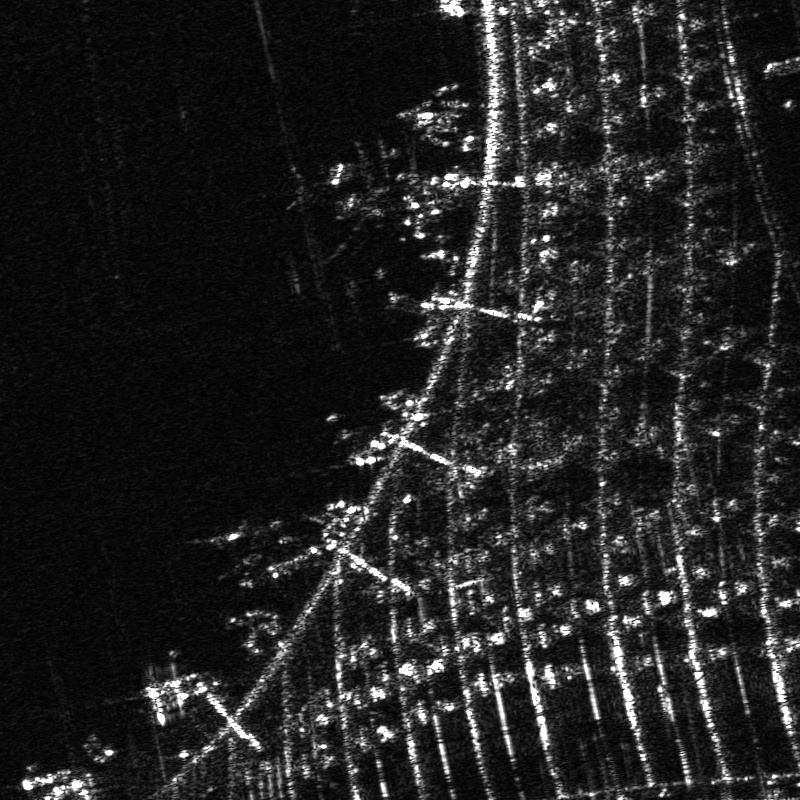Boeing787: (292, 137, 403, 265)
